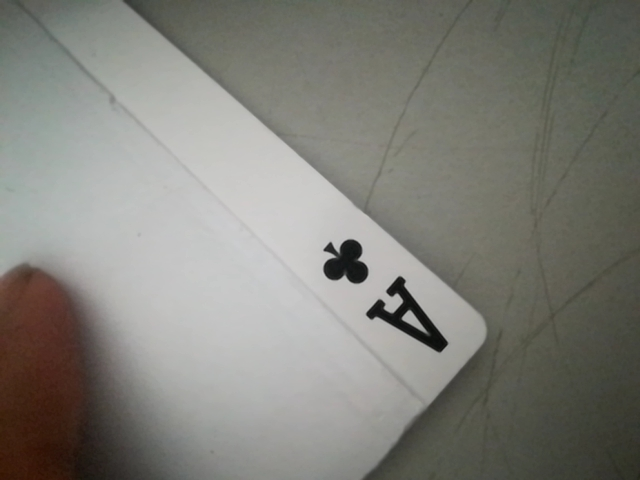mh a: (297, 231, 468, 361)
